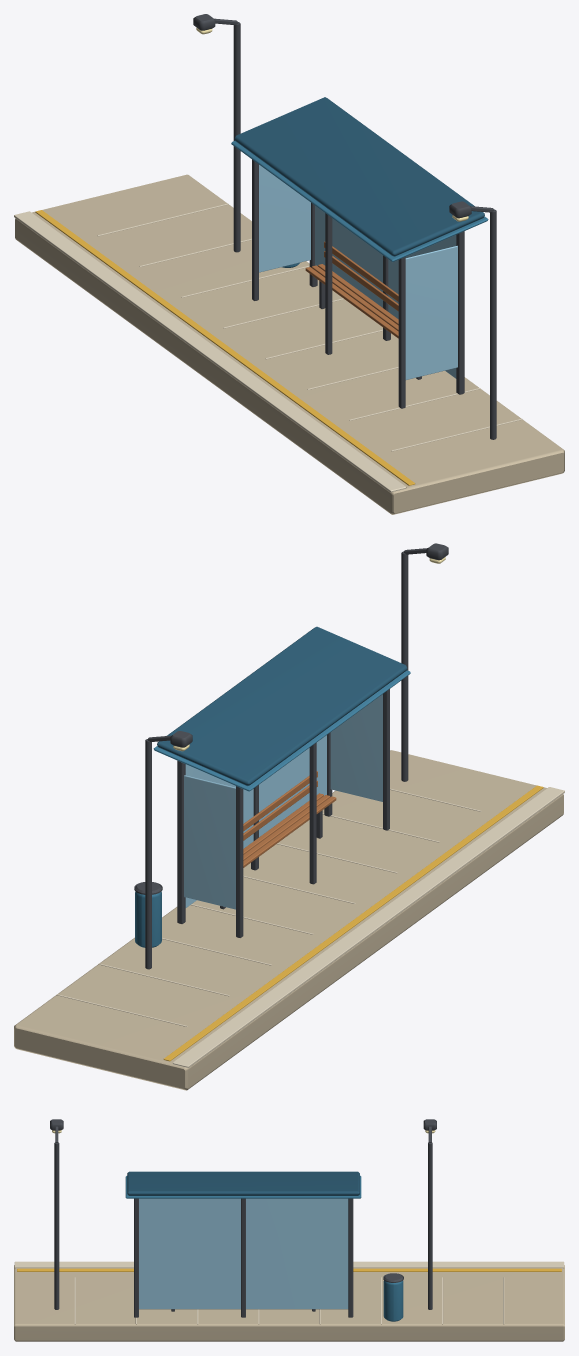
File: gare.glb
3 views of the same model, one above another, from view 1: azimuth 30°, elevation 25°; view 2: azimuth 150°, elevation 25°; view 3: azimuth 270°, elevation 25° (orthographic). The views are drawn at different scales.
Parts seen in each view (by area): view 1: gare_quai.002, gare_abri_toit.002, gare_abri_verre.002, gare_gare_metal.002, gare_quai_bord.002, gare_quai_bande.002, gare_banc.002, gare_abri.002; view 2: gare_quai.002, gare_abri_toit.002, gare_abri_verre.002, gare_gare_metal.002, gare_quai_bord.002, gare_quai_bande.002, gare_banc.002, gare_abri.002; view 3: gare_quai.002, gare_abri_verre.002, gare_abri_toit.002, gare_gare_metal.002, gare_quai_bord.002, gare_abri.002, gare_quai_bande.002.
Boxes of the visible parts, box(x1,y1,x2,y2) form: gare_quai.002: box(15, 174, 564, 514); gare_abri_toit.002: box(234, 97, 484, 256); gare_abri_verre.002: box(259, 165, 457, 379); gare_gare_metal.002: box(193, 14, 496, 439); gare_quai_bord.002: box(14, 203, 522, 492); gare_quai_bande.002: box(35, 210, 415, 485); gare_banc.002: box(305, 241, 398, 338); gare_abri.002: box(231, 141, 488, 267); gare_quai.002: box(14, 750, 563, 1090); gare_abri_toit.002: box(157, 626, 407, 786); gare_abri_verre.002: box(184, 694, 382, 909); gare_gare_metal.002: box(134, 543, 448, 969); gare_quai_bord.002: box(56, 787, 564, 1067); gare_quai_bande.002: box(163, 785, 543, 1061); gare_banc.002: box(243, 771, 336, 867); gare_abri.002: box(135, 670, 410, 947); gare_quai.002: box(14, 1265, 564, 1341); gare_abri_verre.002: box(139, 1198, 348, 1309); gare_abri_toit.002: box(127, 1171, 359, 1195); gare_gare_metal.002: box(50, 1119, 436, 1317); gare_quai_bord.002: box(14, 1261, 564, 1324); gare_abri.002: box(125, 1175, 403, 1321); gare_quai_bande.002: box(17, 1268, 561, 1271).
Size of the model in its own units: 2.41 by 3.49 by 9.
